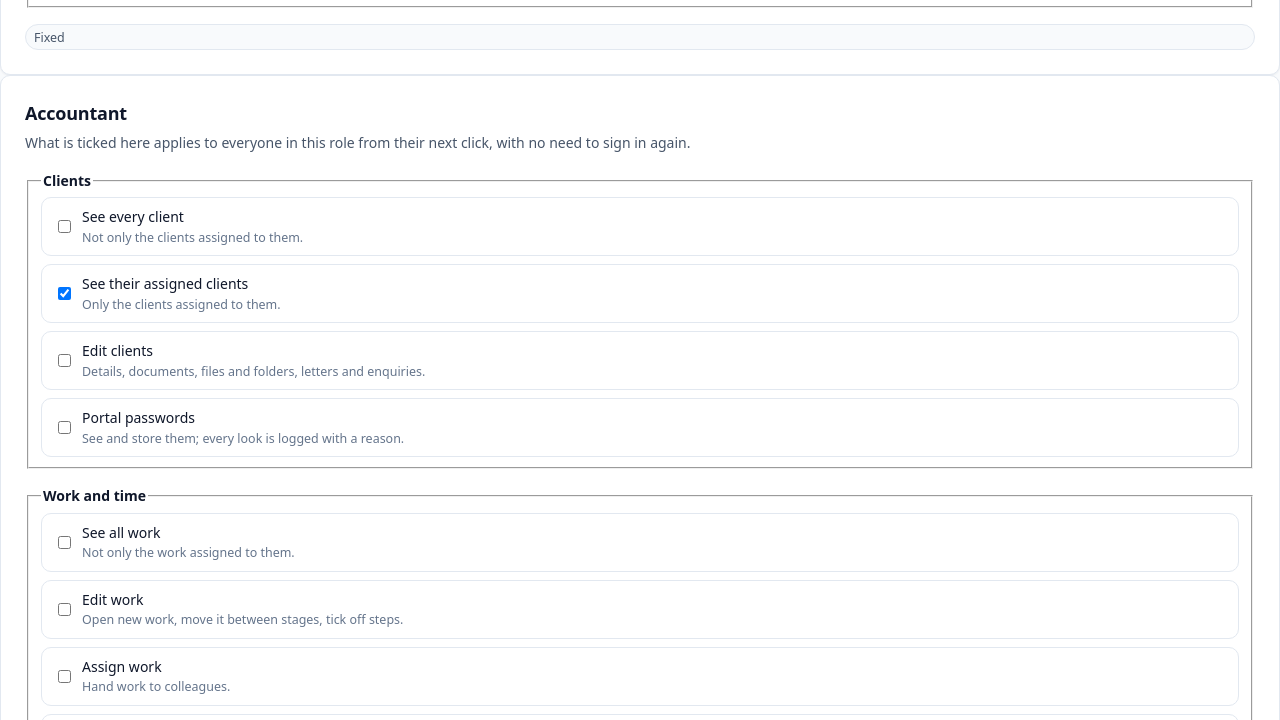
it: roles and permissions › saves the whole list for the role, with the new tick in it
(page scrolled)
Click the checkbox labelled "Edit clients" at coordinates (64, 361), box x1=58 y1=354 x2=71 y2=367
(page scrolled)
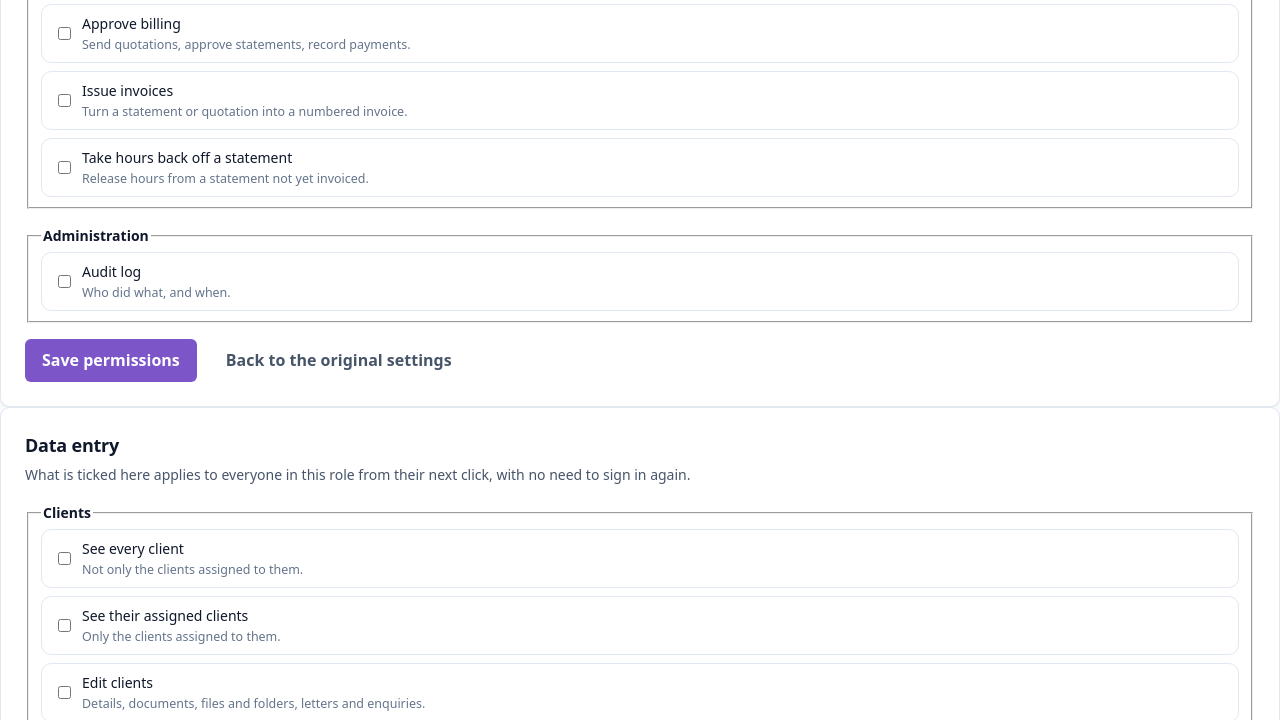
Click the button "Save permissions" at coordinates (111, 361), box x1=25 y1=339 x2=197 y2=382
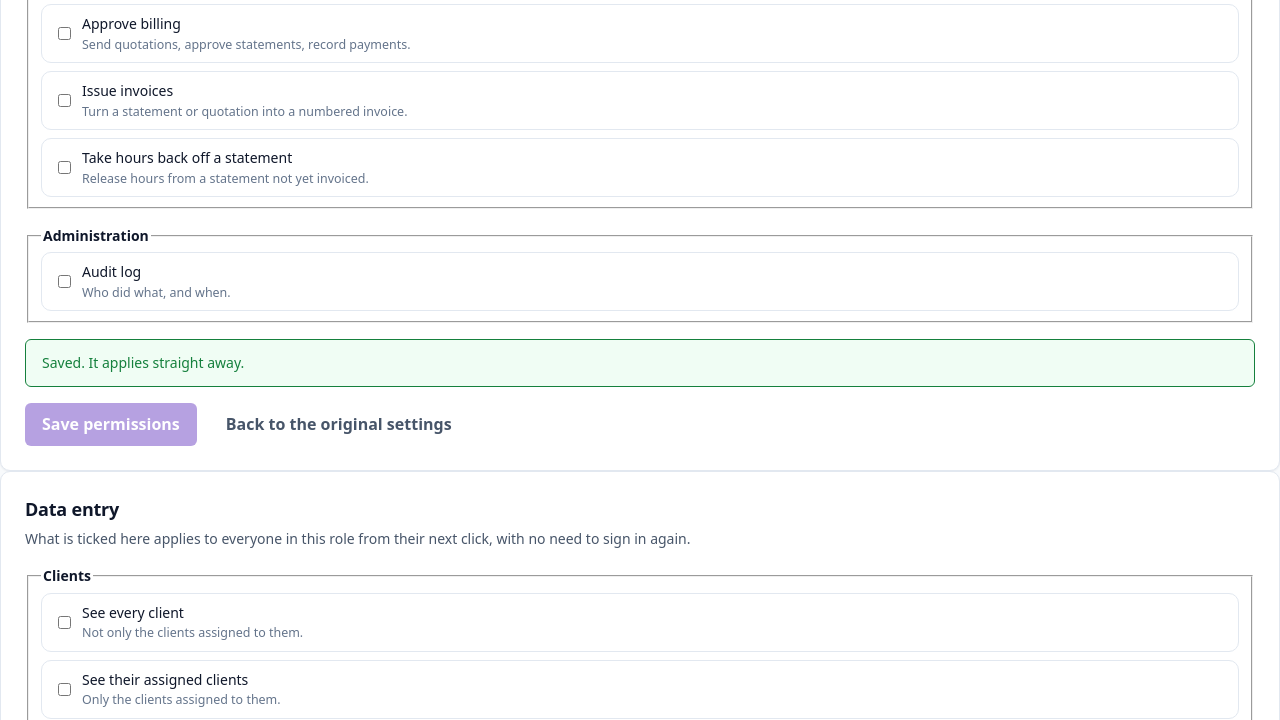
Result: the text "Saved. It applies straight away." is shown at x1=25 y1=339 x2=1255 y2=387
